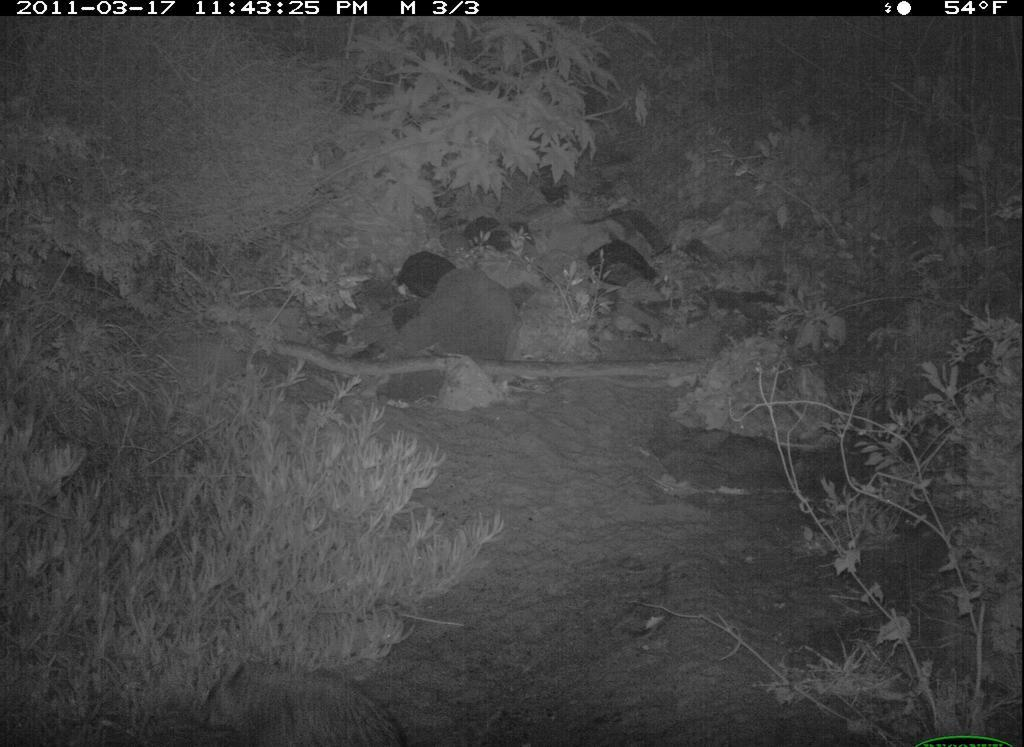raccoon: (189, 660, 406, 747)
